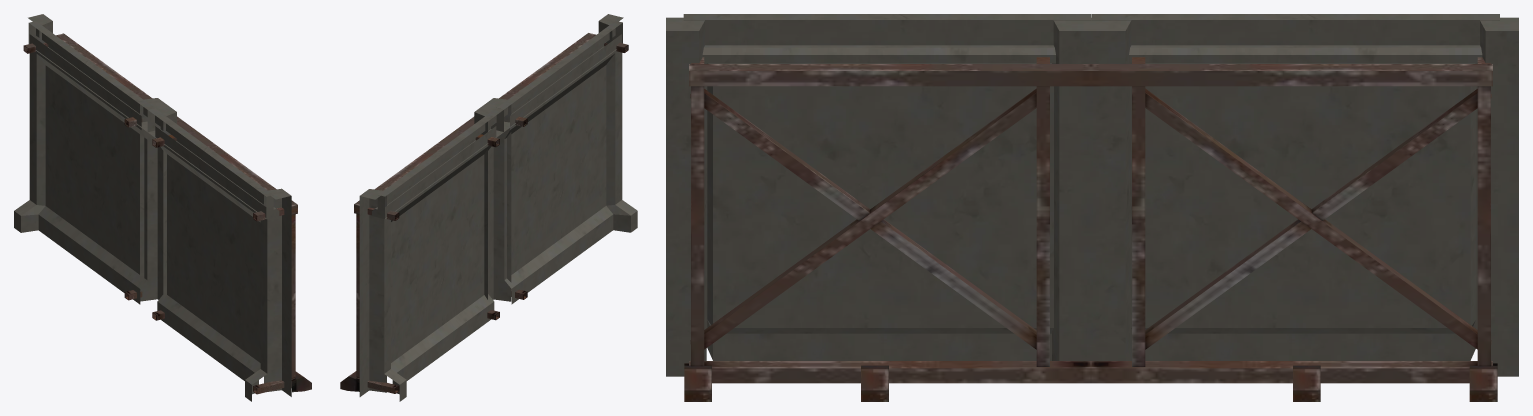
File: fence-gate--1.gltf
The picture shows the model from 3 angles, left to right: view 1: azimuth 30°, elevation 25°; view 2: azimuth 150°, elevation 25°; view 3: azimuth 270°, elevation 25°; orthographic projection. The views are drawn at different scales.
Parts seen in each view (by area): view 1: Plane.005; view 2: Plane.005; view 3: Plane.005.
Part boxes in pixels (x1,y1,x2,y2): Plane.005: [14, 14, 311, 401]; Plane.005: [340, 14, 637, 401]; Plane.005: [666, 14, 1518, 401].
Bounding box in the file's own units: 0.9271 × 3 × 6.63.
Materials: 3 (3 with a texture image).
